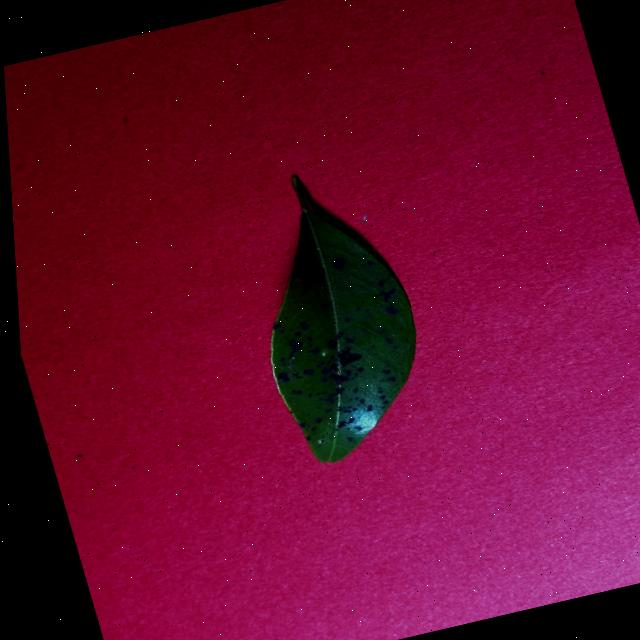sooty_mold: (271, 176, 415, 462)
